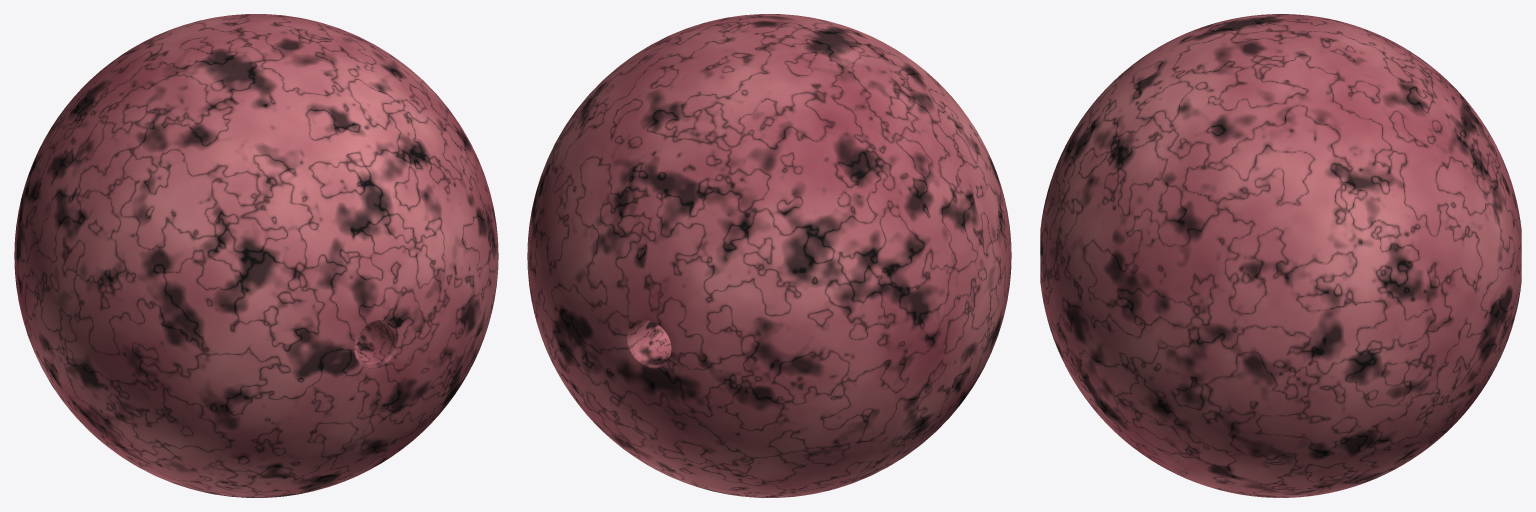
Rendered from rhodonite-10mm.glb.
The picture shows the model from 3 angles, left to right: view 1: azimuth 30°, elevation 25°; view 2: azimuth 150°, elevation 25°; view 3: azimuth 270°, elevation 25°; orthographic projection.
Visible parts, largest first — view 1: rhodonite.001; view 2: rhodonite.001; view 3: rhodonite.001.
Boxes of the visible parts, x1,y1,x2,y2 form: rhodonite.001: (14,14,498,497); rhodonite.001: (527,14,1011,497); rhodonite.001: (1040,14,1521,497).
Bounding box in the file's own units: 0.01 × 0.01 × 0.00994.
1 material, 1 textured.
